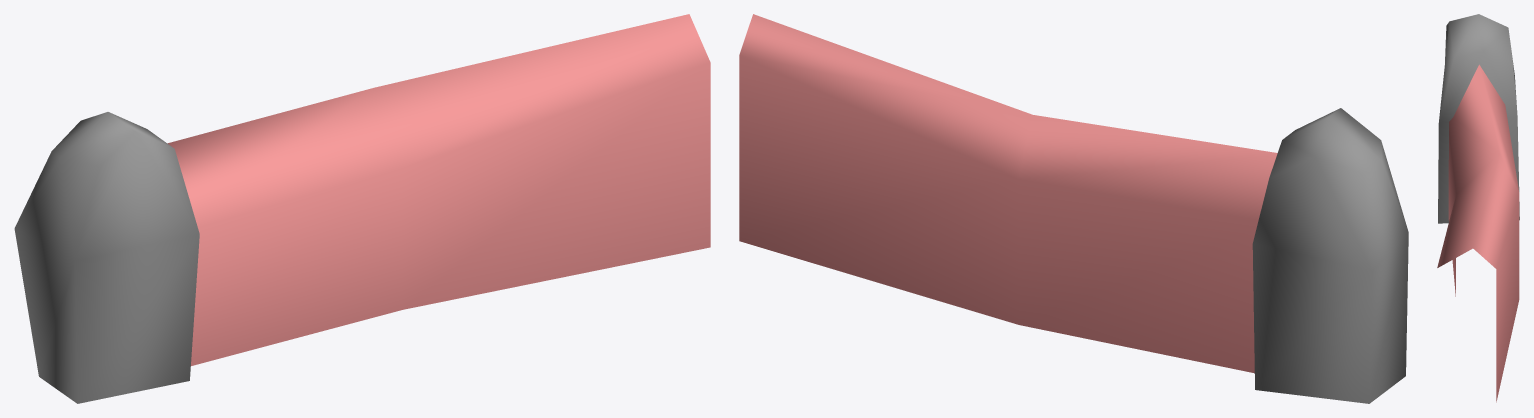
File: Field_Deco_Artifact_S__stonefence.gltf
The picture shows the model from 3 angles, left to right: view 1: azimuth 30°, elevation 25°; view 2: azimuth 150°, elevation 25°; view 3: azimuth 270°, elevation 25°; orthographic projection. The views are drawn at different scales.
Parts seen in each view (by area): view 1: stonefence; view 2: stonefence; view 3: stonefence.
Part boxes in pixels (x1=…): stonefence: x1=14, y1=14, x2=710, y2=403; stonefence: x1=739, y1=14, x2=1408, y2=403; stonefence: x1=1437, y1=14, x2=1519, y2=402.
Bounding box in the file's own units: 1.92 × 0.7442 × 0.2931.
